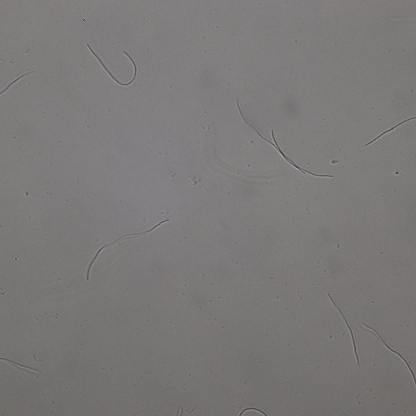Sensitive: (237, 100, 333, 178), (87, 219, 169, 280), (367, 326, 416, 383), (88, 45, 138, 87), (330, 295, 360, 363), (365, 117, 416, 146), (1, 354, 42, 374), (1, 71, 34, 95), (238, 407, 266, 416)
